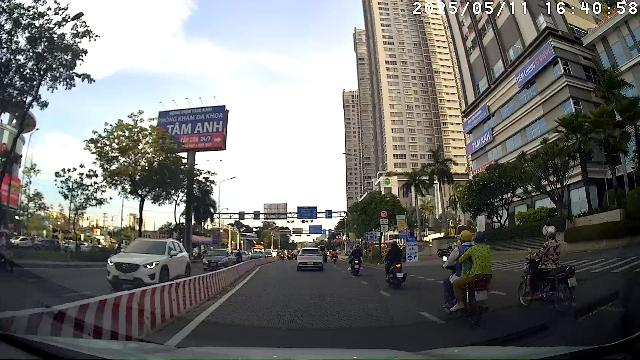103c-cam-oto-re-trai: (379, 209, 388, 218)
